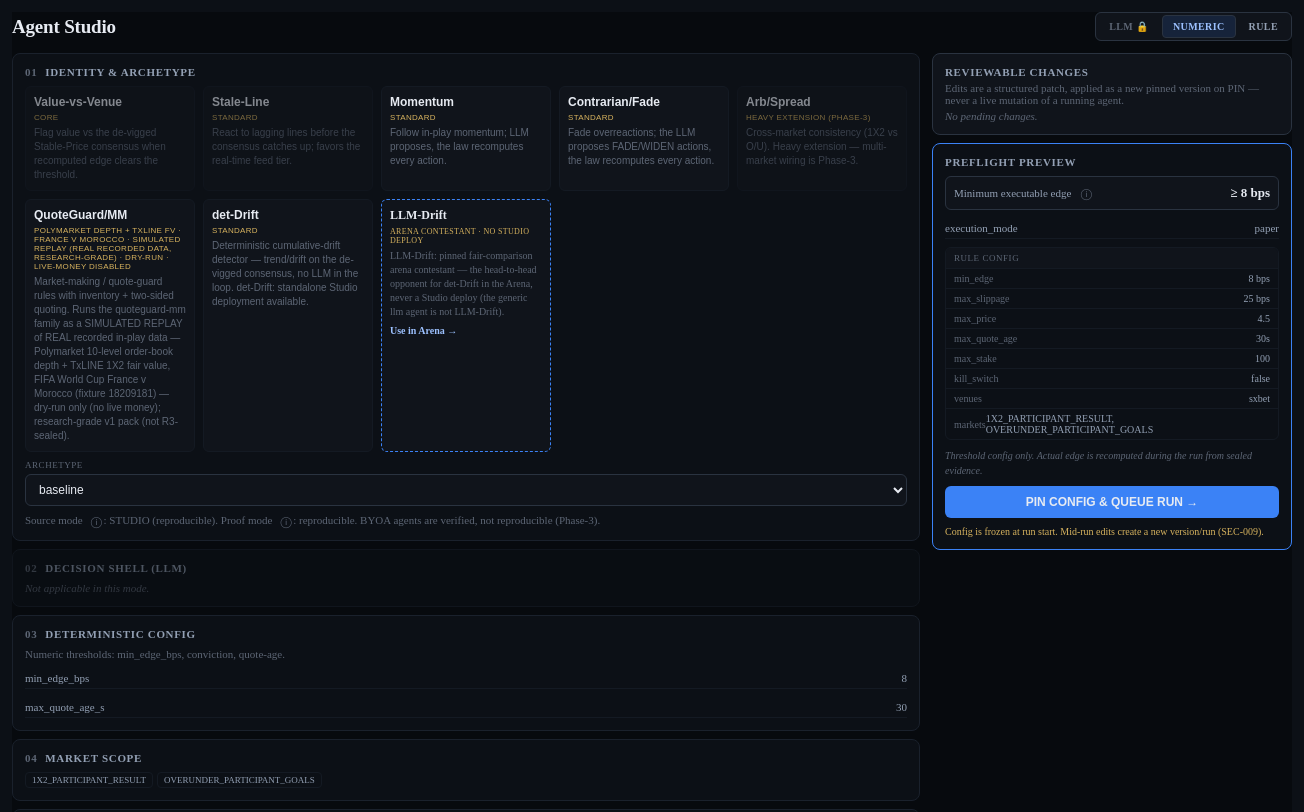
Test case: F-2 · Studio deploy navigation (await-before-navigate, authenticated path) › navigates to /instances/{instance_id} on a successful deploy — never /dashboard
This screenshot has width=1304, height=812.
Click the button "PIN CONFIG & QUEUE RUN →" at (1112, 502), box [945,486,1279,518]
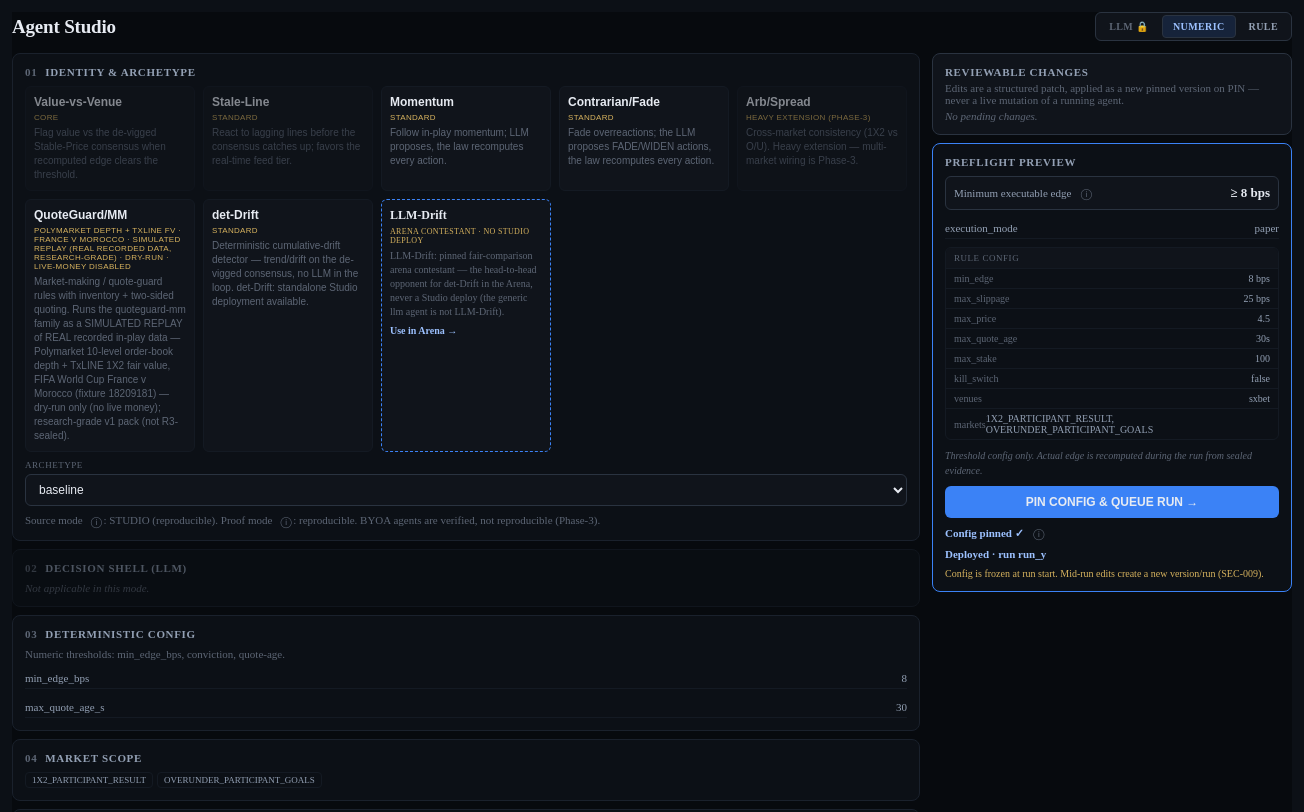
Expected: the element with test id "deploy-run-id" shows "run_y", [1018,548,1046,560]
